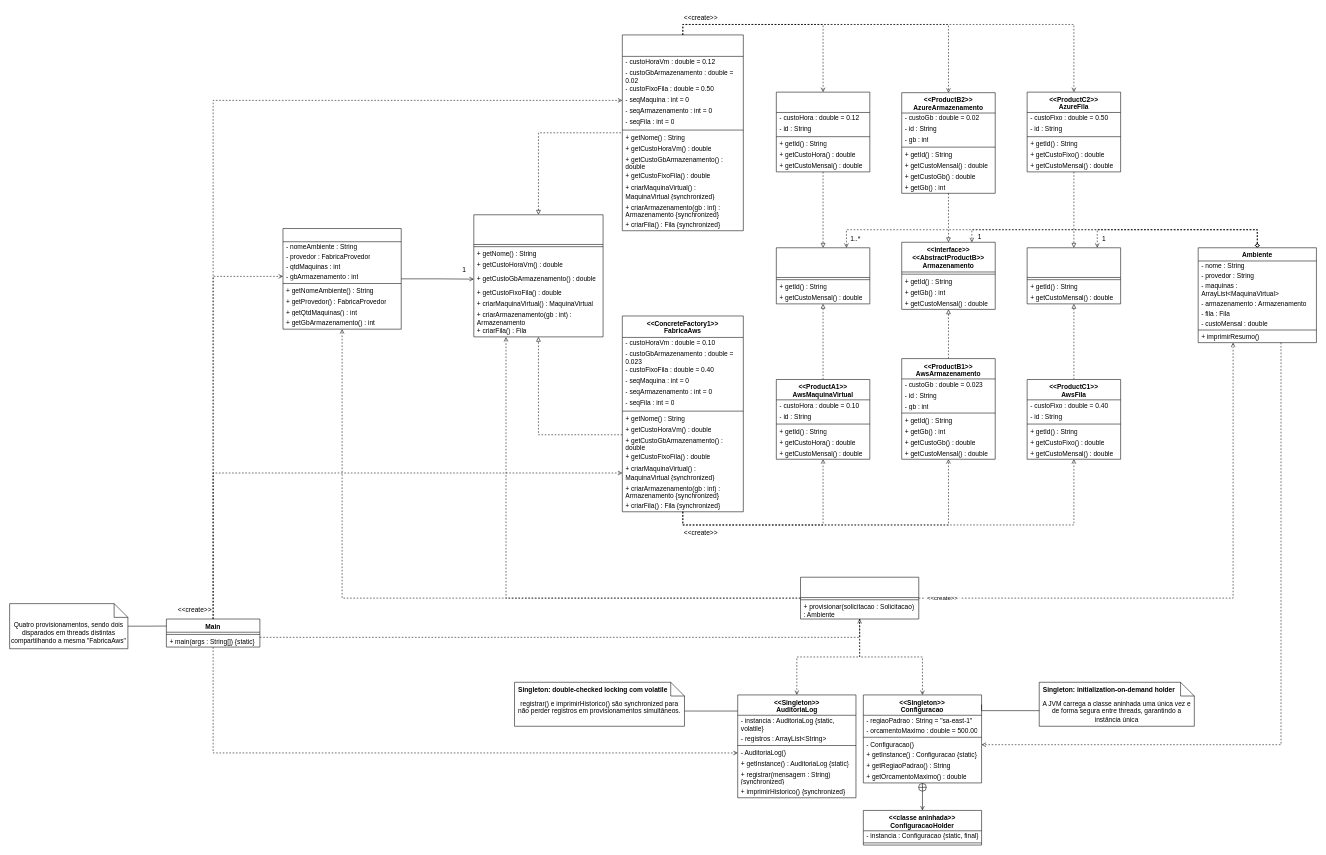
Image size: 1326x855. Some labels were removed from this diagram. Each missing label, with the box of its shape:
<<Client>> Provisionador: (800, 577, 919, 619)
<<ConcreteFactory2>> FabricaAzure: (622, 34, 743, 231)
<<interface>> <<AbstractFactory>> FabricaProvedor: (473, 214, 603, 337)
<<interface>> <<AbstractProductA>> MaquinaVirtual: (776, 247, 870, 304)
<<interface>> <<AbstractProductC>> Fila: (1027, 247, 1121, 304)
<<ProductA2>> AzureMaquinaVirtual: (776, 92, 870, 172)
Solicitacao: (282, 228, 401, 329)
